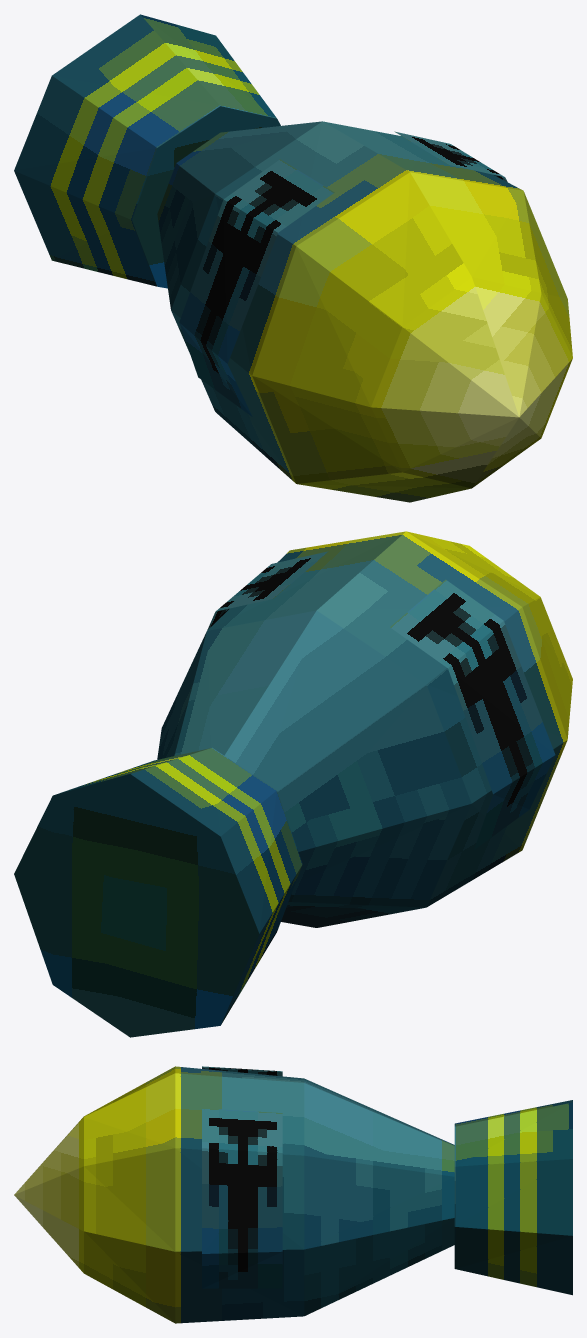
The model's file is X_shell.obj.
3 renders of one model, top to bottom at view 1: azimuth 30°, elevation 25°; view 2: azimuth 150°, elevation 25°; view 3: azimuth 270°, elevation 25°, orthographic. The views are drawn at different scales.
Visible parts, largest first — view 1: Node 0; view 2: Node 0; view 3: Node 0.
Part boxes in pixels (left/top/right/bottom): Node 0: left=14, top=14, right=572, bottom=502; Node 0: left=14, top=531, right=572, bottom=1037; Node 0: left=14, top=1066, right=572, bottom=1323.
Bounding box in the file's own units: 0.52 × 0.5 × 1.04.
Materials: 1 (1 with a texture image).
